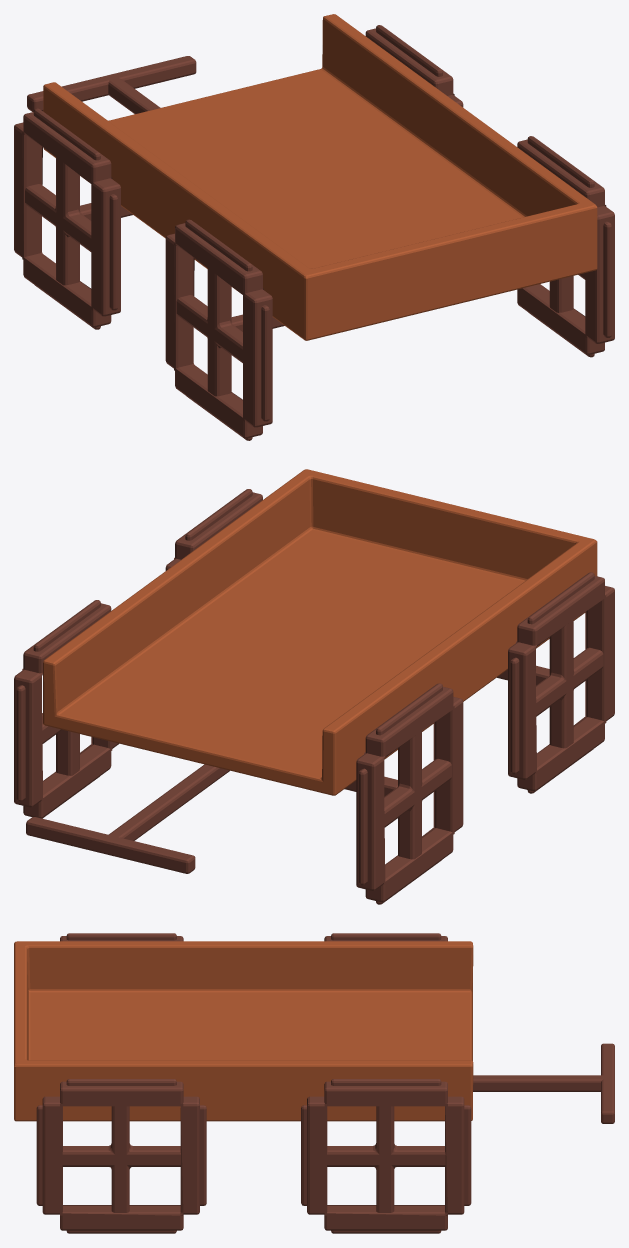
Rendered from Cart (1).fbx.
3 renders of one model, top to bottom at view 1: azimuth 30°, elevation 25°; view 2: azimuth 150°, elevation 25°; view 3: azimuth 270°, elevation 25°, orthographic. The views are drawn at different scales.
Visible parts, largest first — view 1: Cube, Cube.007, Cube.009, Cube.004, Cube.006, Cube.008, Cube.010, Cube.005, Cube.003; view 2: Cube, Cube.009, Cube.007, Cube.005, Cube.010, Cube.006, Cube.008, Cube.004, Cube.002; view 3: Cube, Cube.004, Cube.005, Cube.003, Cube.002, Cube.010, Cube.007, Cube.009.
Boxes of the visible parts, x1=… form: Cube: x1=43, y1=14, x2=597, y2=340; Cube.007: x1=165, y1=219, x2=272, y2=440; Cube.009: x1=14, y1=108, x2=120, y2=329; Cube.004: x1=517, y1=136, x2=614, y2=357; Cube.006: x1=176, y1=268, x2=242, y2=396; Cube.008: x1=25, y1=157, x2=91, y2=285; Cube.010: x1=27, y1=56, x2=196, y2=113; Cube.005: x1=365, y1=25, x2=463, y2=107; Cube.003: x1=549, y1=273, x2=585, y2=312; Cube: x1=43, y1=469, x2=597, y2=795; Cube.009: x1=356, y1=683, x2=463, y2=904; Cube.007: x1=508, y1=572, x2=614, y2=793; Cube.005: x1=14, y1=600, x2=118, y2=818; Cube.010: x1=26, y1=764, x2=229, y2=873; Cube.006: x1=536, y1=620, x2=603, y2=748; Cube.008: x1=384, y1=731, x2=451, y2=859; Cube.004: x1=165, y1=489, x2=262, y2=570; Cube.002: x1=42, y1=713, x2=79, y2=775; Cube: x1=14, y1=941, x2=473, y2=1121; Cube.004: x1=36, y1=1079, x2=206, y2=1233; Cube.005: x1=301, y1=1079, x2=471, y2=1233; Cube.003: x1=62, y1=1106, x2=180, y2=1212; Cube.002: x1=327, y1=1106, x2=445, y2=1212; Cube.010: x1=473, y1=1043, x2=614, y2=1123; Cube.007: x1=60, y1=933, x2=183, y2=941; Cube.009: x1=324, y1=933, x2=447, y2=941.
Bounding box in the file's own units: 1321 × 632 × 2180.
